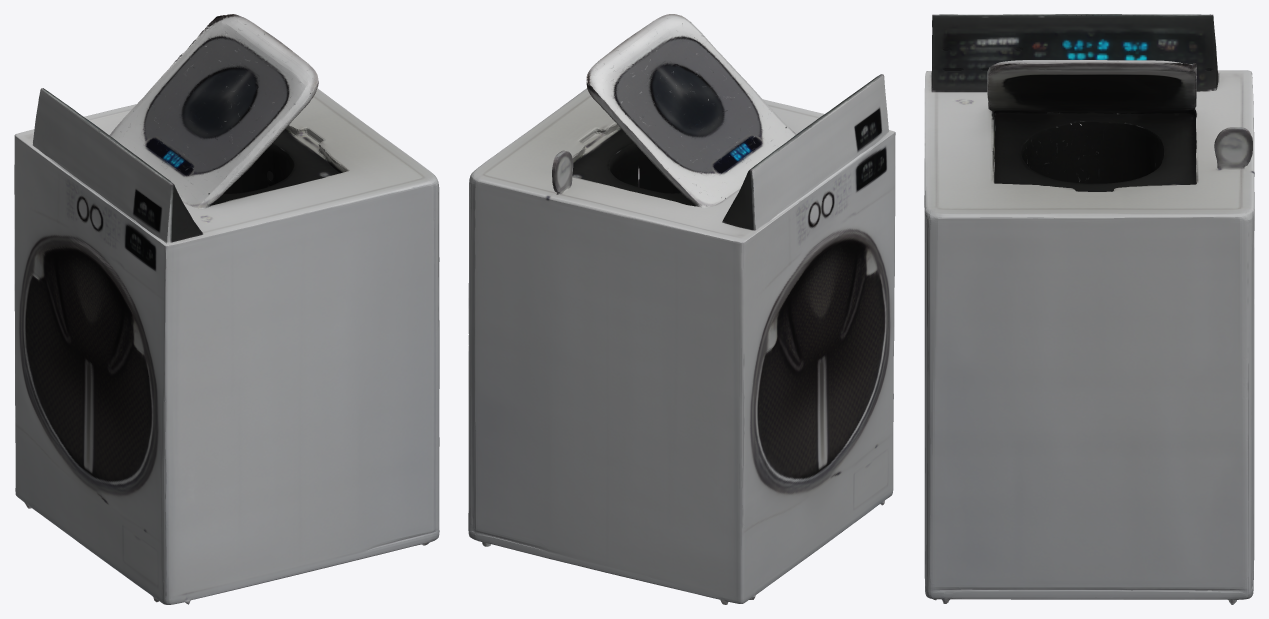
The model's file is appearance.glb.
3 views of the same model, side by side, from view 1: azimuth 30°, elevation 25°; view 2: azimuth 150°, elevation 25°; view 3: azimuth 270°, elevation 25° (orthographic). The views are drawn at different scales.
Visible parts, largest first — view 1: visual_0_0, visual_1_0; view 2: visual_0_0, visual_1_0; view 3: visual_0_0, visual_1_0.
Part boxes in pixels (x1,y1,x2,y2): visual_0_0: (14, 88, 439, 604); visual_1_0: (101, 14, 437, 222); visual_0_0: (468, 74, 895, 604); visual_1_0: (569, 14, 807, 221); visual_0_0: (924, 14, 1254, 604); visual_1_0: (924, 60, 1253, 217).
Bounding box in the file's own units: 0.5982 × 0.9522 × 0.5697.
6 materials, 6 textured.
